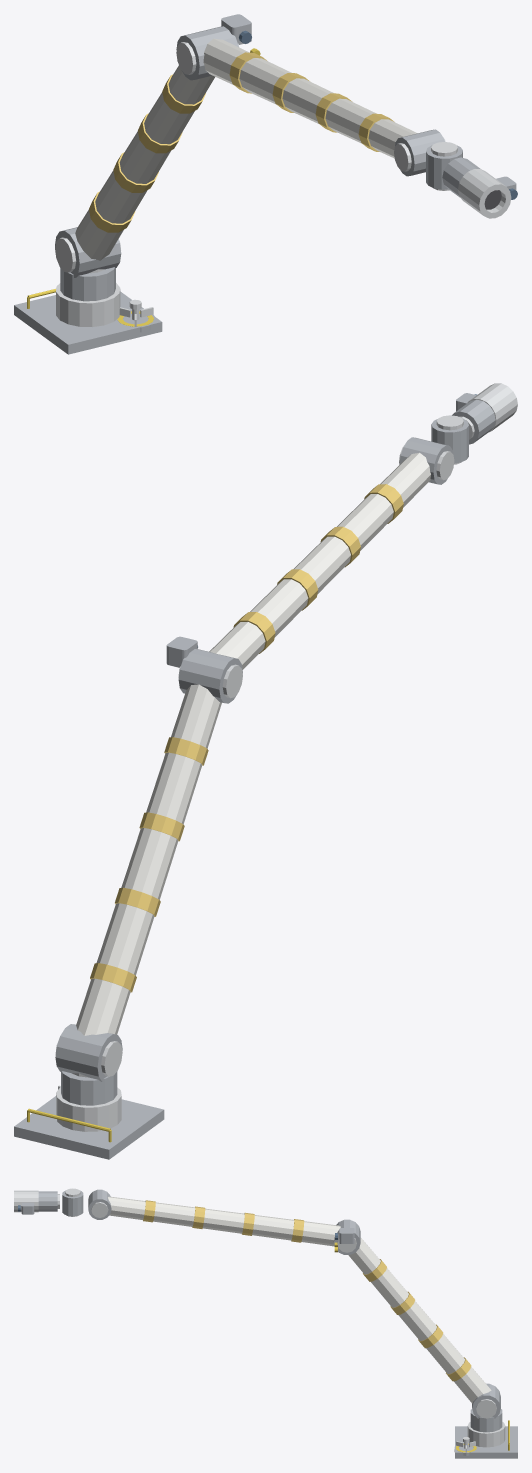
File: orbital-station-and-docking-bays-manipulator-arm-368e8e4a__24554.glb
3 renders of one model, top to bottom at view 1: azimuth 30°, elevation 25°; view 2: azimuth 150°, elevation 25°; view 3: azimuth 270°, elevation 25°, orthographic. The views are drawn at different scales.
Parts seen in each view (by area): view 1: manipulator-arm, joint-shoulder-pitch (×2), joint-elbow (×2), joint-shoulder-yaw, joint-wrist-pitch (×2), joint-wrist-yaw, joint-wrist-roll; view 2: manipulator-arm, joint-shoulder-pitch, joint-elbow, joint-shoulder-yaw, joint-wrist-pitch, joint-wrist-roll, joint-wrist-yaw; view 3: manipulator-arm, joint-shoulder-pitch (×2), joint-shoulder-yaw, joint-wrist-yaw, joint-wrist-roll, joint-wrist-pitch, joint-elbow.
Part boxes in pixels (x1,y1,x2,y2): manipulator-arm: (14, 14, 517, 354); joint-shoulder-pitch (×2): (55, 227, 121, 277); joint-elbow (×2): (176, 26, 238, 80); joint-shoulder-yaw: (60, 267, 115, 301); joint-wrist-pitch (×2): (394, 129, 445, 176); joint-wrist-yaw: (426, 145, 462, 189); joint-wrist-roll: (442, 157, 480, 197); manipulator-arm: (14, 383, 517, 1159); joint-shoulder-pitch: (55, 1024, 122, 1081); joint-elbow: (178, 649, 242, 703); joint-shoulder-yaw: (61, 1071, 117, 1105); joint-wrist-pitch: (399, 437, 453, 484); joint-wrist-roll: (452, 399, 495, 444); joint-wrist-yaw: (431, 418, 468, 463); manipulator-arm: (14, 1190, 517, 1458); joint-shoulder-pitch (×2): (472, 1383, 500, 1418); joint-shoulder-yaw: (470, 1409, 502, 1432); joint-wrist-yaw: (62, 1190, 83, 1216); joint-wrist-roll: (38, 1191, 57, 1211); joint-wrist-pitch: (88, 1189, 111, 1219); joint-elbow: (333, 1219, 360, 1254).
Bounding box in the file's own units: 1.42 × 6.22 × 11.21.
